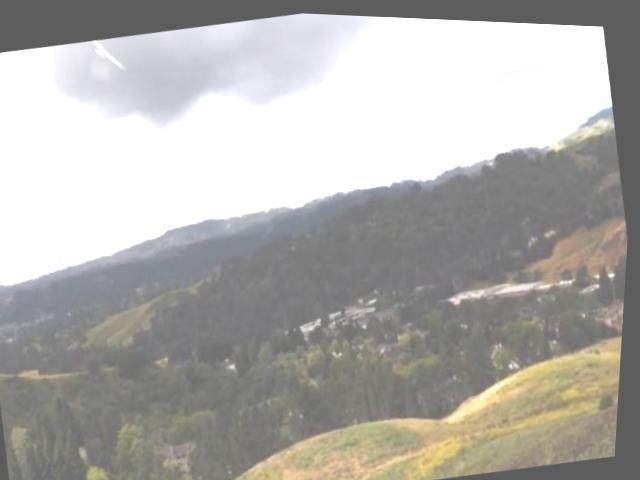iha: (88, 34, 126, 72)
